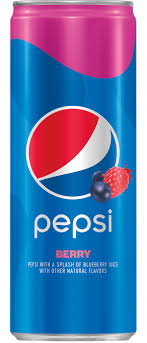Pepsi: (6, 1, 141, 341)
